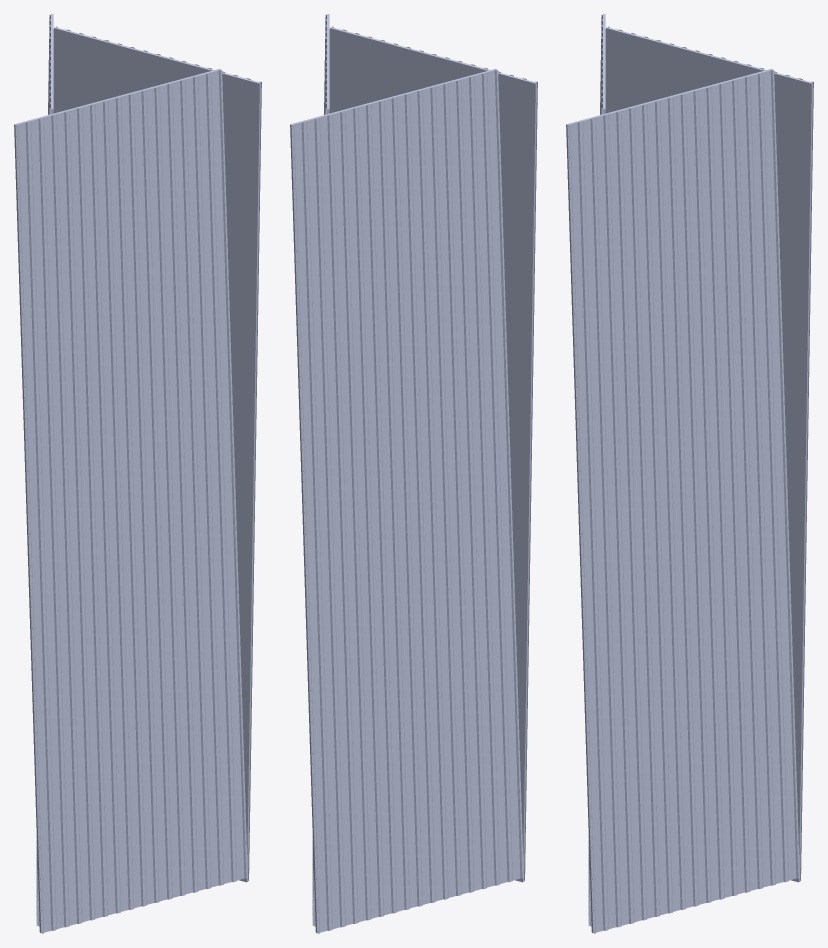
Rendered from Test_Trapez_Coloumn.glb.
3 views of the same model, side by side, from view 1: azimuth 30°, elevation 25°; view 2: azimuth 150°, elevation 25°; view 3: azimuth 270°, elevation 25° (orthographic).
Parts seen in each view (by area): view 1: color; view 2: color; view 3: color.
Part boxes in pixels (x1=…): color: x1=14, y1=14, x2=261, y2=933; color: x1=290, y1=14, x2=537, y2=933; color: x1=566, y1=14, x2=813, y2=933.
Bounding box in the file's own units: 1.87 × 6.34 × 1.75.
